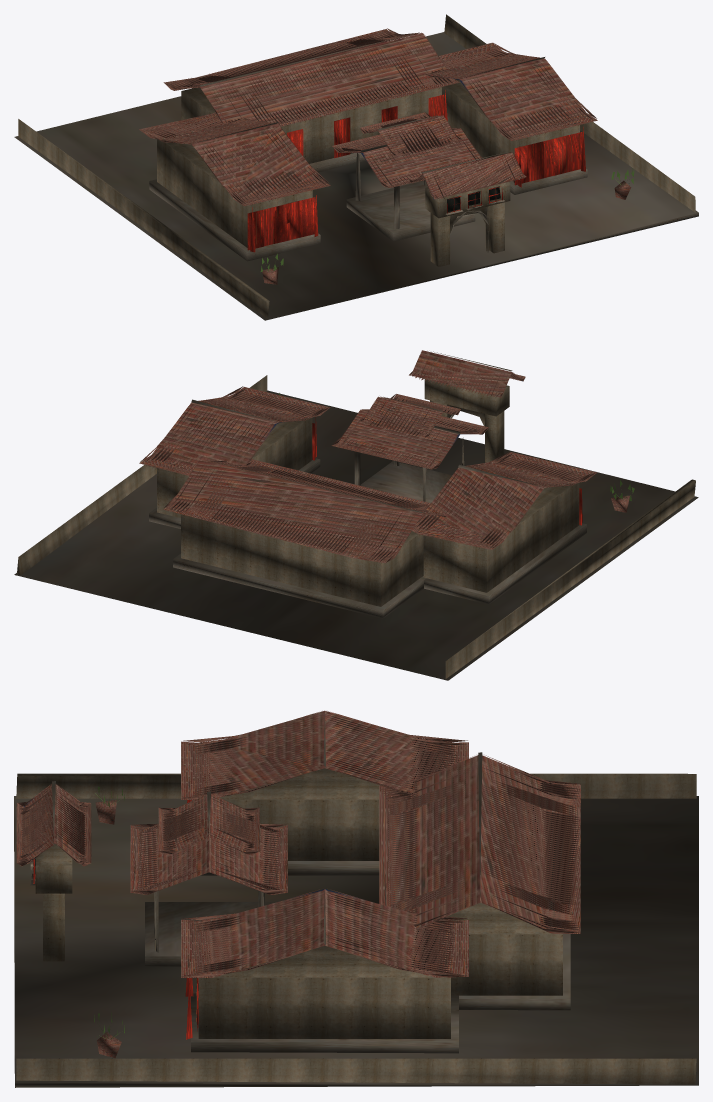
File: den_ngoc_son_lod2.glb
The picture shows the model from 3 angles, top to bottom: view 1: azimuth 30°, elevation 25°; view 2: azimuth 150°, elevation 25°; view 3: azimuth 270°, elevation 25°; orthographic projection. The views are drawn at different scales.
Parts seen in each view (by area): view 1: den_ngoc_son.001; view 2: den_ngoc_son.001; view 3: den_ngoc_son.001.
Boxes of the visible parts, x1,y1,x2,y2 form: den_ngoc_son.001: (14,14,698,320); den_ngoc_son.001: (14,350,698,680); den_ngoc_son.001: (14,710,698,1087).
Bounding box in the file's own units: 26.04 × 5.61 × 26.04.
2 materials, 2 textured.
